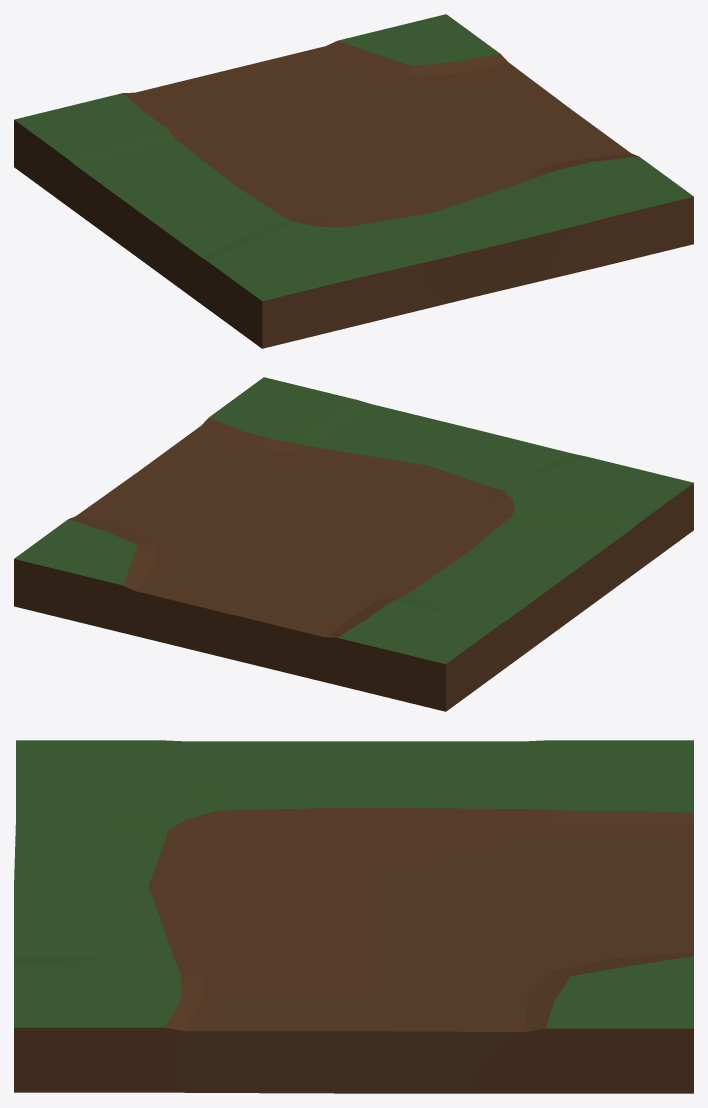
The model's file is Dirt Corner.fbx.
3 views of the same model, one above another, from view 1: azimuth 30°, elevation 25°; view 2: azimuth 150°, elevation 25°; view 3: azimuth 270°, elevation 25° (orthographic). The views are drawn at different scales.
Visible parts, largest first — view 1: DirtCorner; view 2: DirtCorner; view 3: DirtCorner.
Part boxes in pixels (x1,y1,x2,y2): DirtCorner: [14, 14, 693, 348]; DirtCorner: [14, 377, 693, 711]; DirtCorner: [14, 740, 693, 1093].
Bounding box in the file's own units: 10.06 × 1.06 × 10.03.
